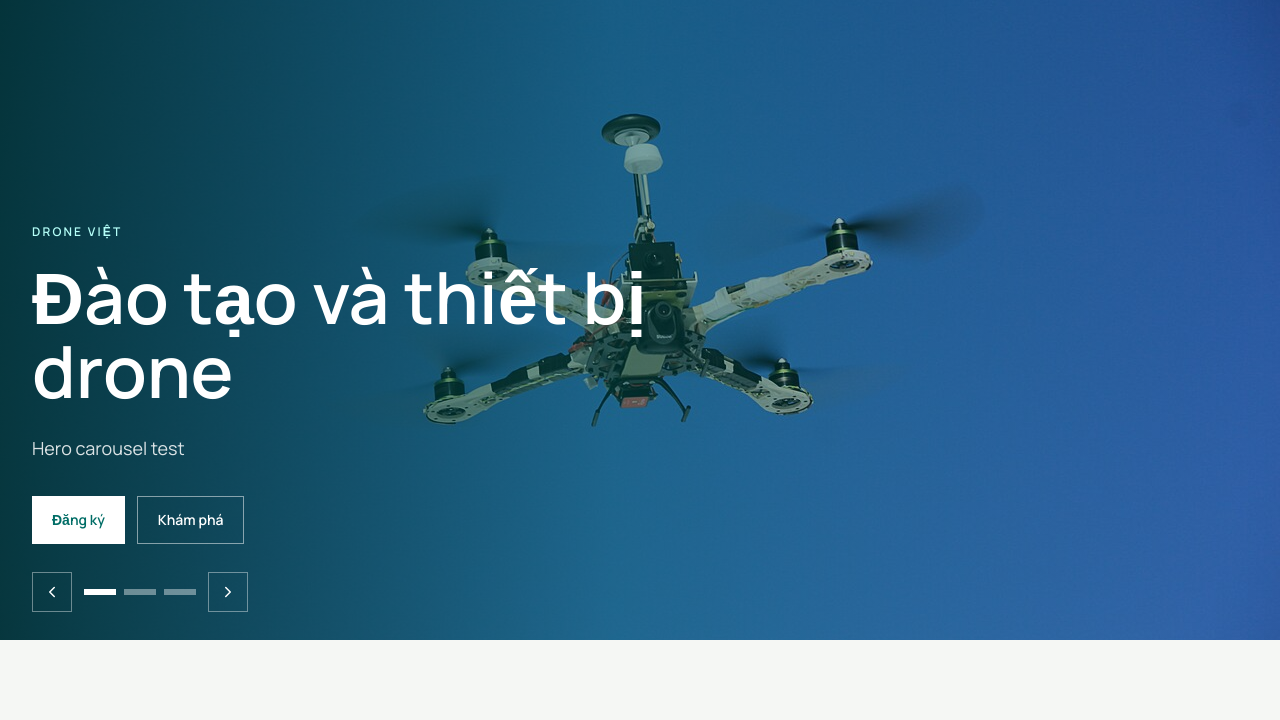
Test: DroneHeroCarousel › renders three image slides and allows manual slide selection
This screenshot has width=1280, height=720.
Click the tab named "Chuyển tới ảnh 2" at x=140, y=592, box [124,589,156,595]
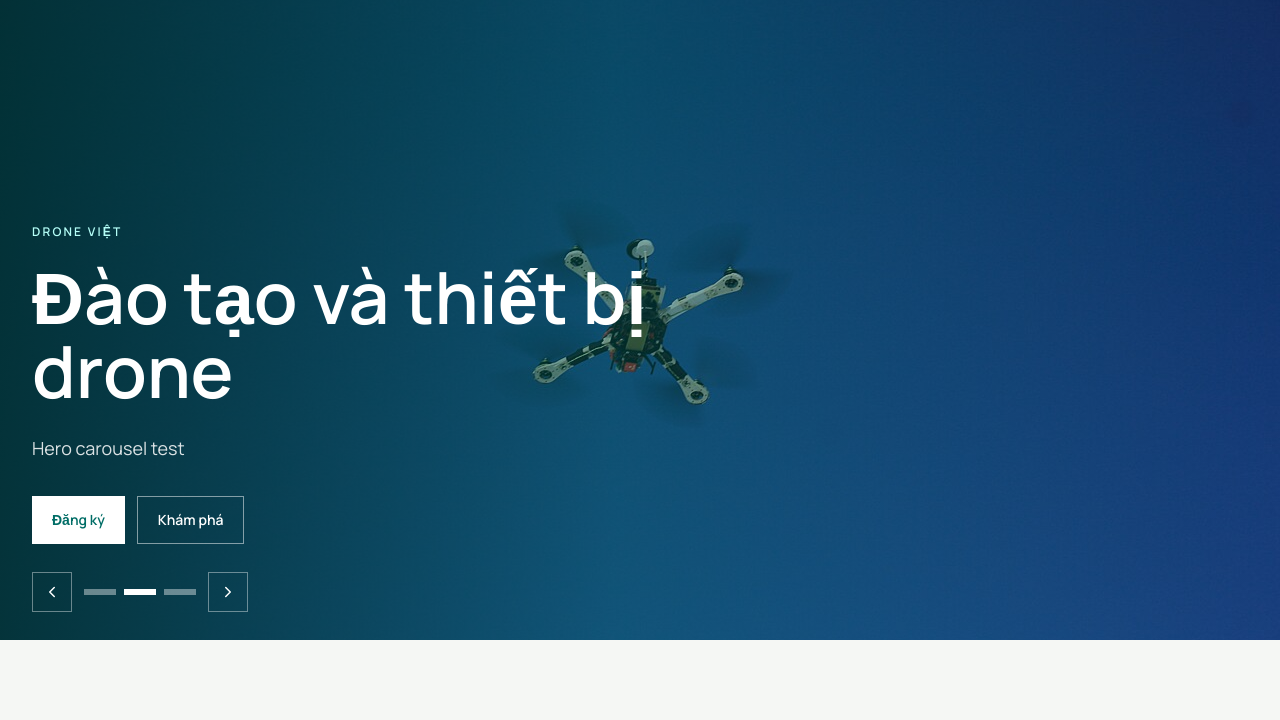
Now the picture named "Drone flight 2" is shown
